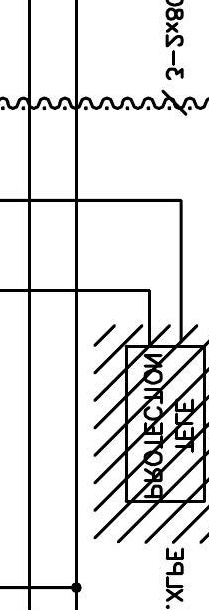tele_protection: (122, 342, 209, 506)
